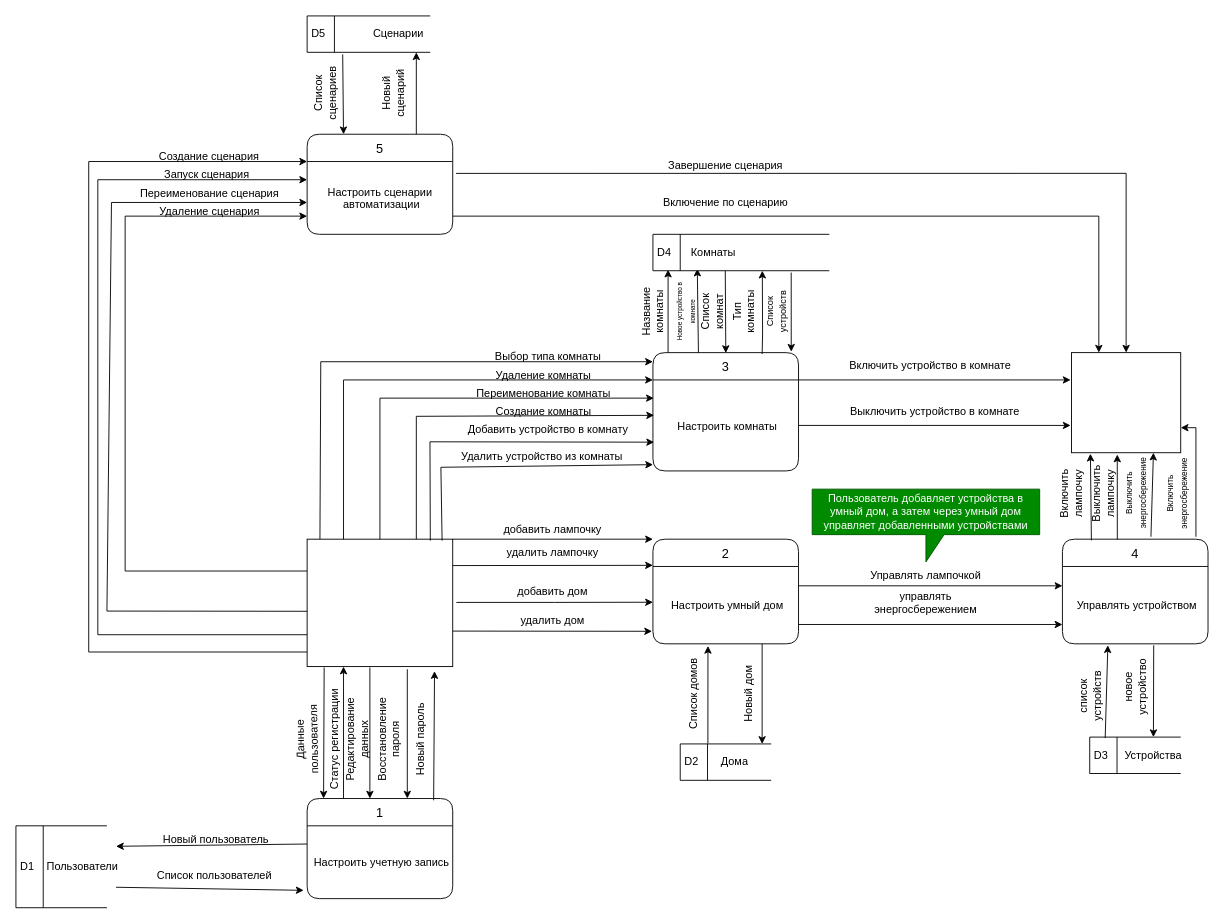
Some shapes in this 1224 by 924 pixel diagram are drawn without their labels. Each missing label, with the centre of its shape:
"Пользователь" goes at (x=379, y=602).
"Устройство" goes at (x=1126, y=402).
